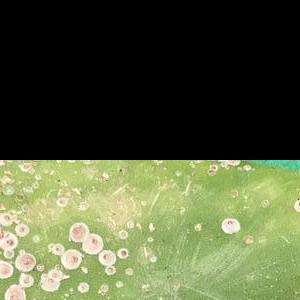Femea: (85, 234, 103, 252), (14, 256, 36, 270), (71, 223, 87, 241), (220, 218, 237, 231), (5, 286, 22, 299), (63, 253, 80, 264), (2, 233, 14, 248), (13, 225, 26, 237), (99, 253, 113, 263), (0, 262, 9, 277), (53, 266, 66, 276), (0, 213, 11, 224), (47, 274, 60, 283), (20, 275, 30, 286), (3, 249, 14, 257), (117, 249, 129, 256), (102, 265, 114, 272), (51, 245, 61, 252), (57, 198, 64, 205)
Macho: (58, 277, 71, 281)
